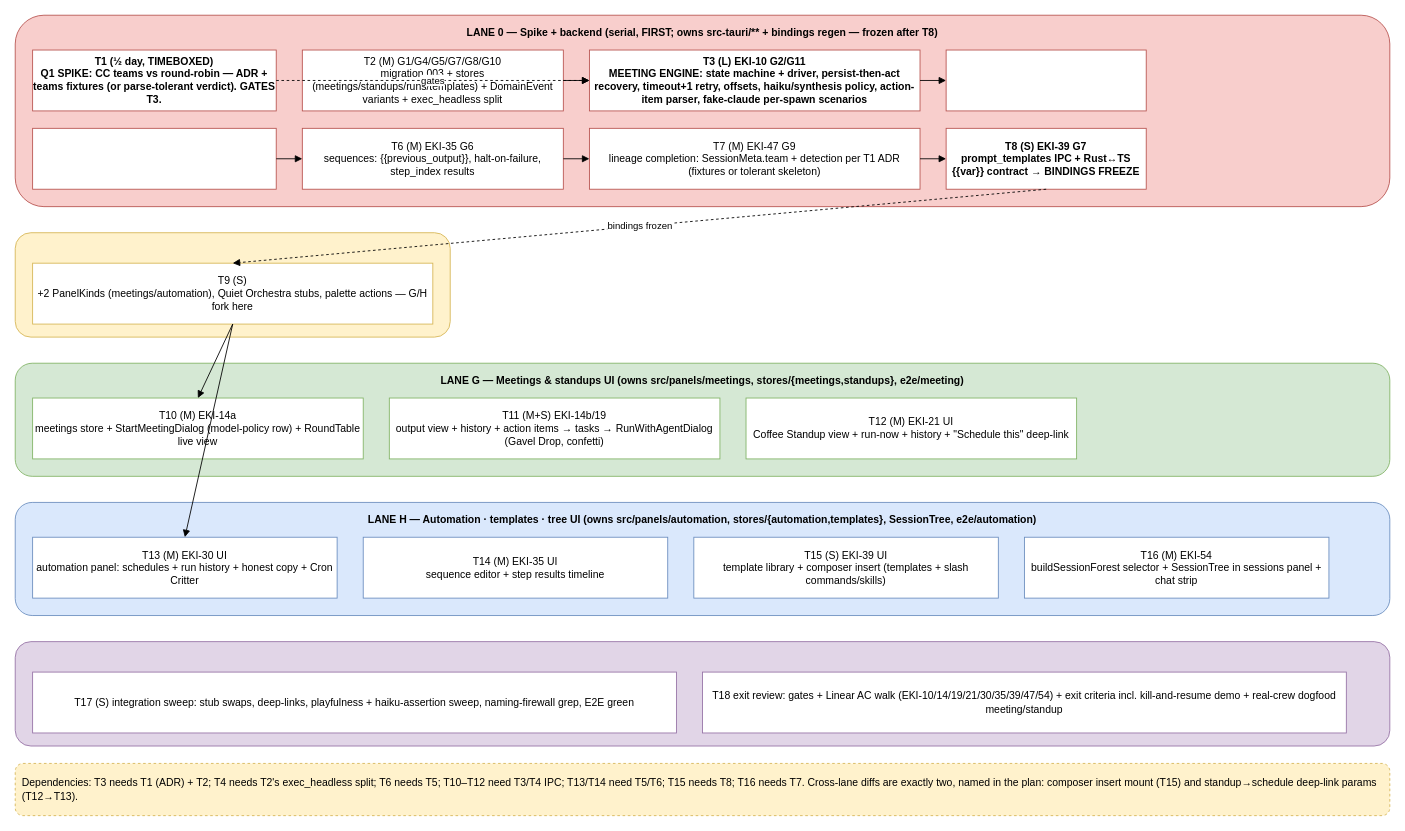
This 1405x831 diagram has some shape labels left out. The box of each missing label's shape, as (x1, y1, x2, y2) in pixels:
CLOSING (main lane, after G ∥ H merge): (14, 641, 1390, 746)
MAIN LANE — registry pre-seed (then src/app/** frozen for M4): (14, 232, 450, 337)
T4 (M) EKI-21 G8 standup engine: digest + bounded haiku fan-out: (945, 49, 1146, 111)
T5 (M) EKI-30 G3/G4 croner + scheduler loop + dispatcher + run IPC: (32, 127, 276, 189)
